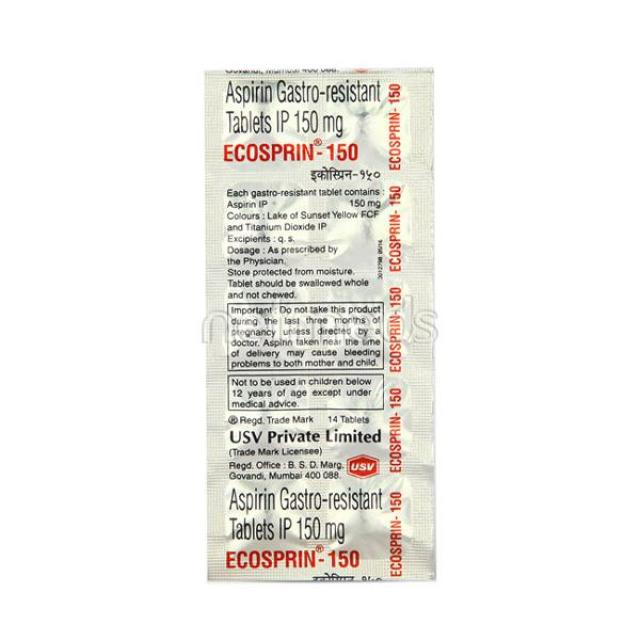Medicine-name: (215, 76, 386, 134)
